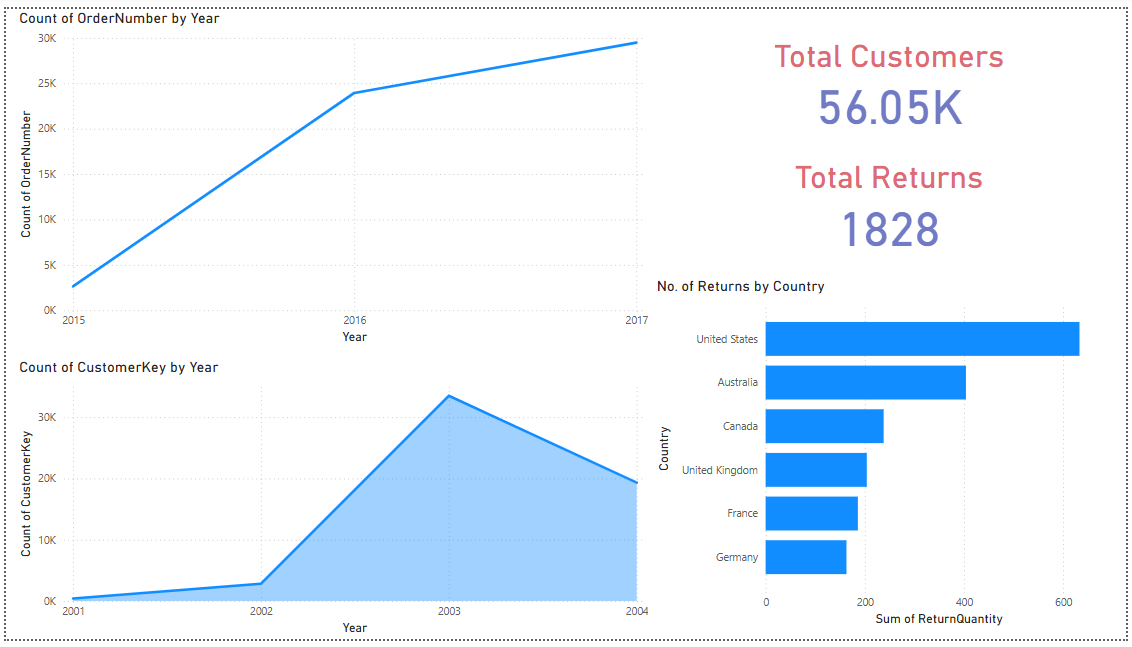

This screenshot's page, from the dashboard's own definition file:
{"tool":"powerbi","page":{"name":"Page 1","canvas":[1280,720],"ordinal":0},"visuals":[{"type":"lineChart","fields":{"Category":["gold extsales.OrderDate.Variation.Date Hierarchy.Year","gold extsales.OrderDate.Variation.Date Hierarchy.Quarter","gold extsales.OrderDate.Variation.Date Hierarchy.Month","gold extsales.OrderDate.Variation.Date Hierarchy.Day"],"Y":["CountNonNull(gold extsales.OrderNumber)"]},"box":[9.6,0,728.6,388.3],"z":0},{"type":"areaChart","fields":{"Y":["CountNonNull(gold extsales.CustomerKey)"],"Category":["gold extsales.StockDate.Variation.Date Hierarchy.Year"]},"box":[10,398,729,322],"z":1000},{"type":"card","title":"Total Customers","fields":{"Values":["CountNonNull(gold extsales.CustomerKey)"]},"box":[738.6,32.9,541.4,105.7],"z":1001},{"type":"card","title":"Total Returns","fields":{"Values":["Sum(gold extreturns.ReturnQuantity)"]},"box":[738.6,171.4,541.4,107.1],"z":1002},{"type":"barChart","title":"No. of Returns by Country","fields":{"Category":["gold ext_territories.Country"],"Y":["Sum(gold extreturns.ReturnQuantity)"]},"box":[738.6,305.7,541.4,404.3],"z":1003}]}

Visuals, with their boxes in screenshot pixels (x1, y1, x2, y2), scaled from the page's 1280x720 canvas onto the 1132x647 screenshot:
lineChart - gold extsales.OrderDate.Variation.Date Hierarchy.Year x gold extsales.OrderDate.Variation.Date Hierarchy.Quarter: region(8, 0, 653, 349)
areaChart - CountNonNull(gold extsales.CustomerKey) x gold extsales.StockDate.Variation.Date Hierarchy.Year: region(9, 358, 654, 646)
"Total Customers" card: region(653, 30, 1131, 125)
"Total Returns" card: region(653, 154, 1131, 250)
"No. of Returns by Country" barChart: region(653, 275, 1131, 638)
